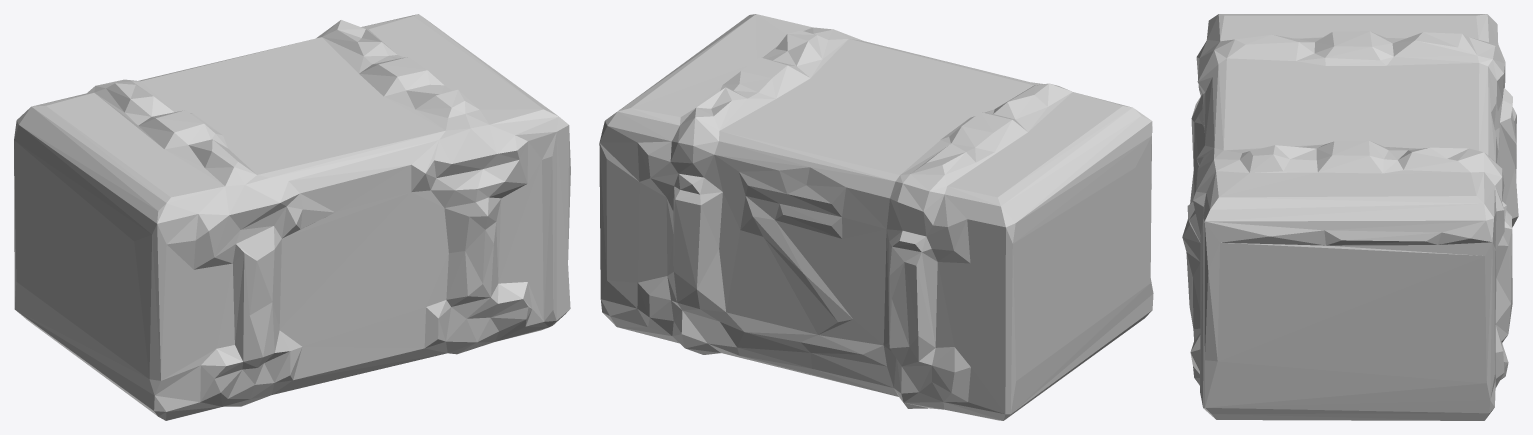
Rendered from chest_special.fbx.
3 renders of one model, left to right at view 1: azimuth 30°, elevation 25°; view 2: azimuth 150°, elevation 25°; view 3: azimuth 270°, elevation 25°, orthographic.
Parts seen in each view (by area): view 1: chest_special; view 2: chest_special; view 3: chest_special.
Boxes of the visible parts, box(x1,y1,x2,y2) form: chest_special: box(14, 14, 570, 420); chest_special: box(599, 14, 1153, 420); chest_special: box(1182, 14, 1518, 420).
Size of the model in its own units: 95.23 by 53.79 by 65.76.
